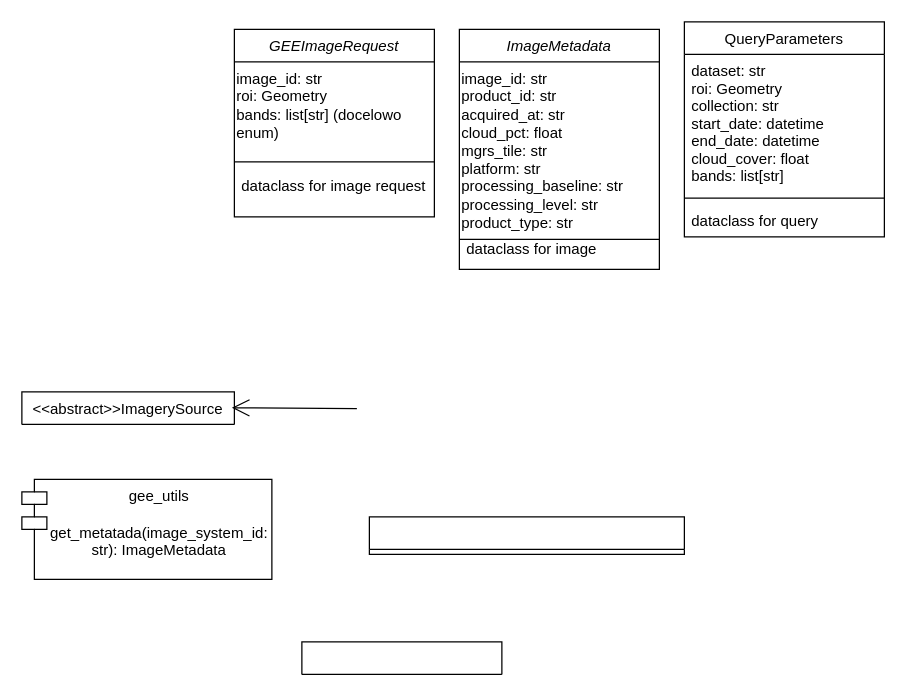
Some shapes in this 906 by 696 pixel diagram are drawn without their labels. The shapes that lost their labels are listed below. From the top down, each one's centre as x and y in pixels, then its label:
the point at 526,535: SatelliteDataPipeline(ImagerySource)
the point at 401,657: GEEImageDownloader
